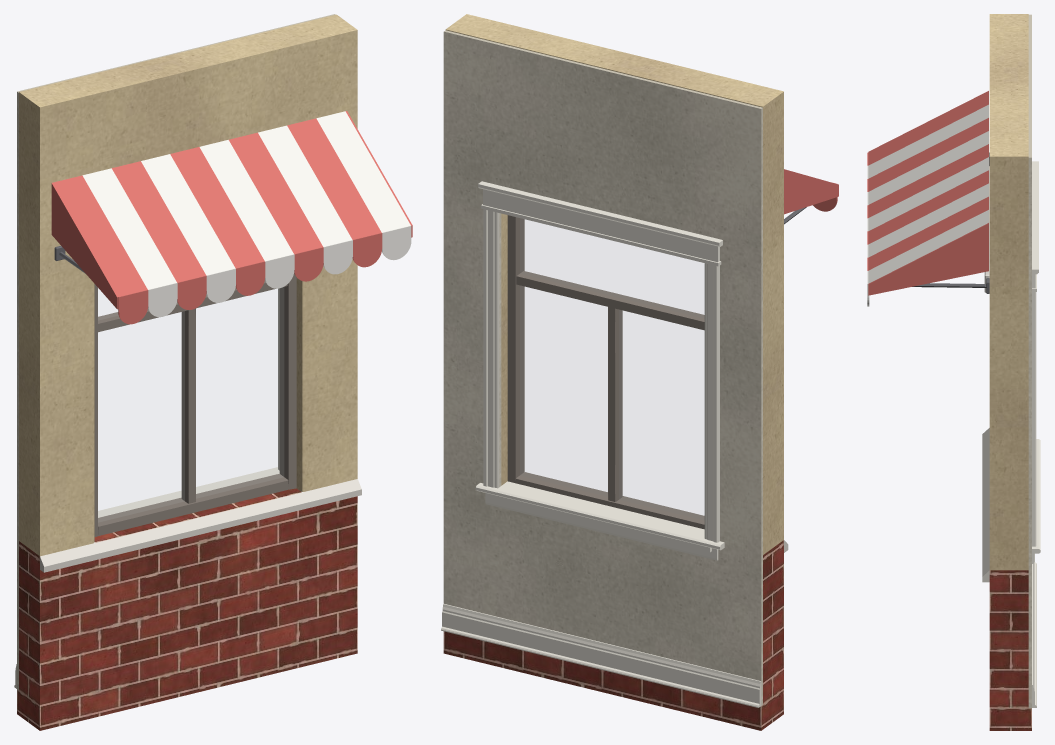
File: w_win.glb
3 views of the same model, side by side, from view 1: azimuth 30°, elevation 25°; view 2: azimuth 150°, elevation 25°; view 3: azimuth 270°, elevation 25° (orthographic). The views are drawn at different scales.
Visible parts, largest first — view 1: w_win_render, w_win_brick, folha_glass, w_win_canvas_r, w_win_canvas_w, w_win_frame, w_win_cill, w_win_plaster, molduras; view 2: w_win_plaster, folha_glass, molduras, w_win_render, w_win_frame, w_win_brick, w_win_canvas_r, w_win_trim; view 3: w_win_render, w_win_canvas_r, w_win_canvas_w, w_win_brick, molduras, w_win_plaster, w_win_cill, w_win_iron.
Boxes of the visible parts, x1=… form: w_win_render: x1=19, y1=14, x2=357, y2=556; w_win_brick: x1=17, y1=488, x2=357, y2=730; folha_glass: x1=98, y1=287, x2=283, y2=521; w_win_canvas_r: x1=51, y1=111, x2=412, y2=324; w_win_canvas_w: x1=82, y1=111, x2=411, y2=317; w_win_frame: x1=94, y1=273, x2=296, y2=536; w_win_cill: x1=40, y1=479, x2=361, y2=572; w_win_plaster: x1=17, y1=14, x2=335, y2=690; molduras: x1=14, y1=288, x2=279, y2=688; w_win_plaster: x1=443, y1=30, x2=762, y2=705; folha_glass: x1=520, y1=219, x2=703, y2=519; molduras: x1=441, y1=181, x2=761, y2=707; w_win_render: x1=445, y1=14, x2=783, y2=554; w_win_frame: x1=507, y1=215, x2=704, y2=529; w_win_brick: x1=443, y1=540, x2=783, y2=730; w_win_canvas_r: x1=784, y1=169, x2=838, y2=214; w_win_trim: x1=487, y1=493, x2=711, y2=552; w_win_render: x1=989, y1=14, x2=1028, y2=570; w_win_canvas_r: x1=867, y1=91, x2=988, y2=295; w_win_canvas_w: x1=867, y1=104, x2=988, y2=306; w_win_brick: x1=989, y1=570, x2=1031, y2=730; molduras: x1=1032, y1=161, x2=1040, y2=707; w_win_plaster: x1=1028, y1=14, x2=1031, y2=707; w_win_cill: x1=982, y1=166, x2=989, y2=582; w_win_iron: x1=912, y1=152, x2=989, y2=293.
Size of the model in its own units: 2 by 3.75 by 1.02.
Materials: 10 (3 with a texture image).
